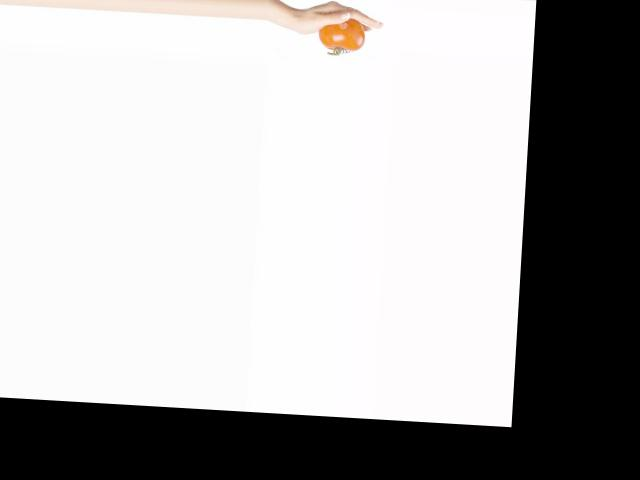tomato: (318, 16, 366, 51)
